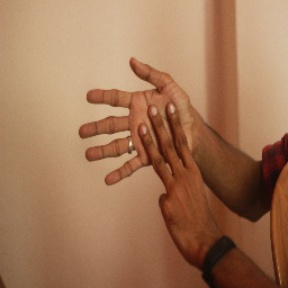M: (83, 57, 203, 204)
